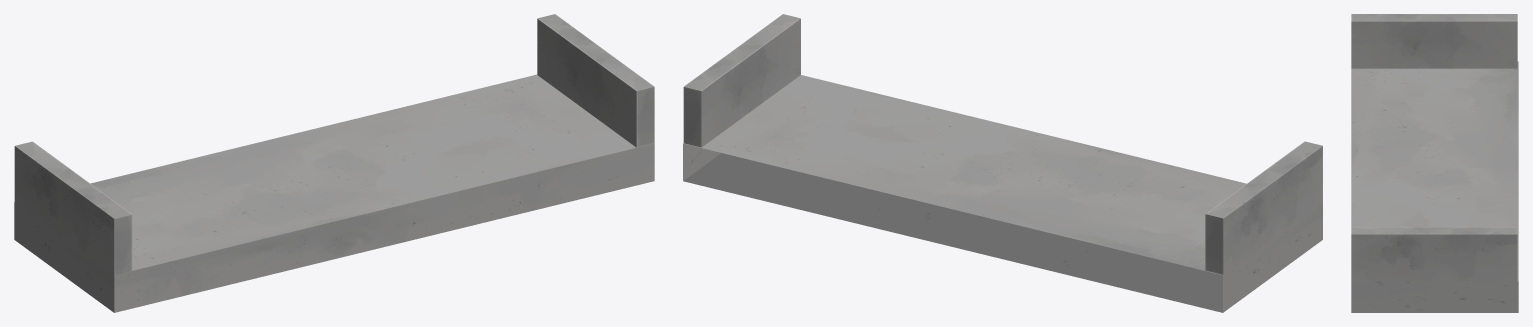
File: BgMD_Balcony_01_01.fbx
3 views of the same model, side by side, from view 1: azimuth 30°, elevation 25°; view 2: azimuth 150°, elevation 25°; view 3: azimuth 270°, elevation 25° (orthographic). The views are drawn at different scales.
Visible parts, largest first — view 1: pCube51; view 2: pCube51; view 3: pCube51.
Part boxes in pixels (<box>): pCube51: <box>14,14,654,312</box>; pCube51: <box>683,14,1322,312</box>; pCube51: <box>1351,14,1518,312</box>.
Size of the model in its own units: 1500 by 250 by 481.
Materials: 1 (1 with a texture image).
